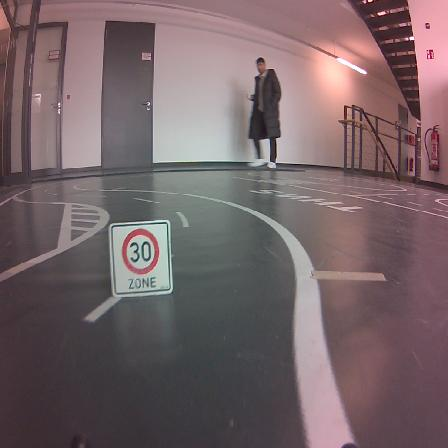30_ZONE_BEGIN: (109, 220, 173, 298)
